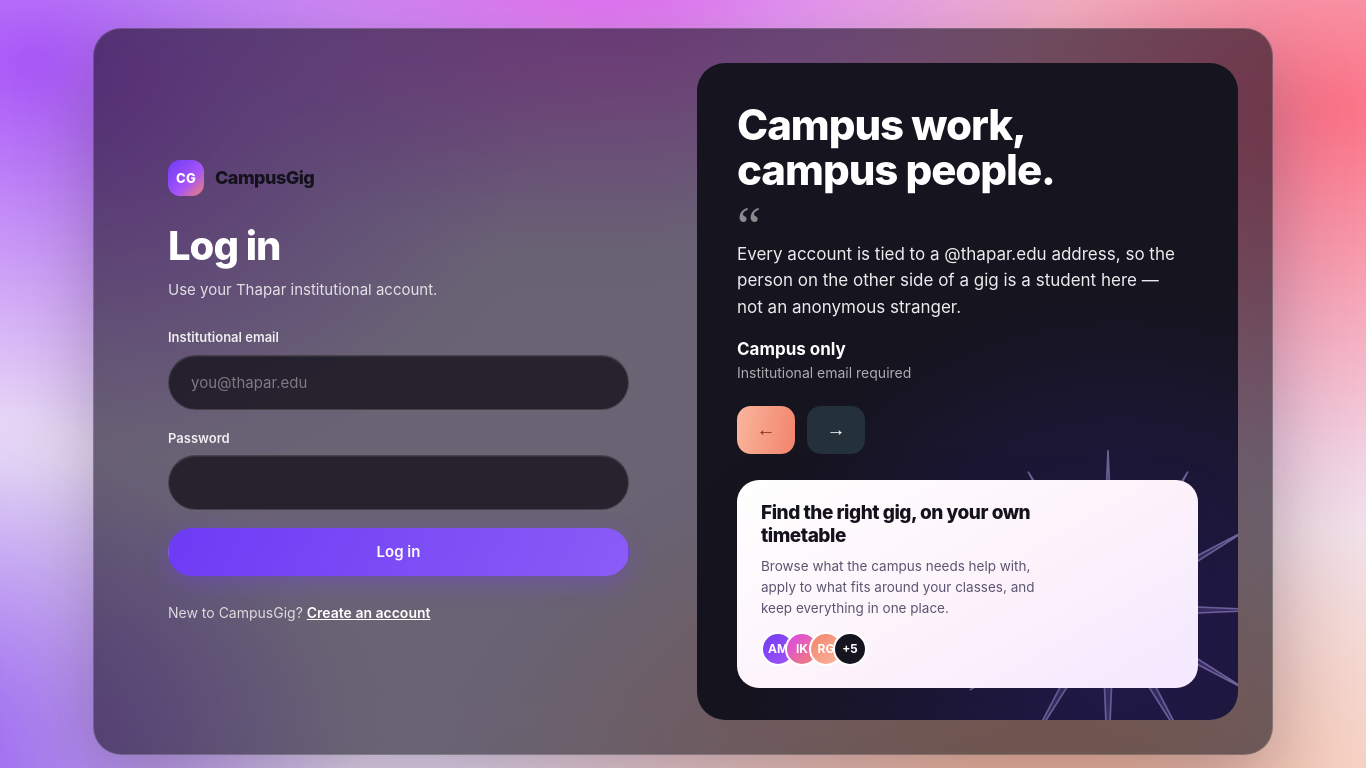
it: login form › surfaces the backend error for bad credentials
Step 1. Type "student@thapar.edu" into the field labelled "Institutional email" → [398, 382], box [168,355,629,410]
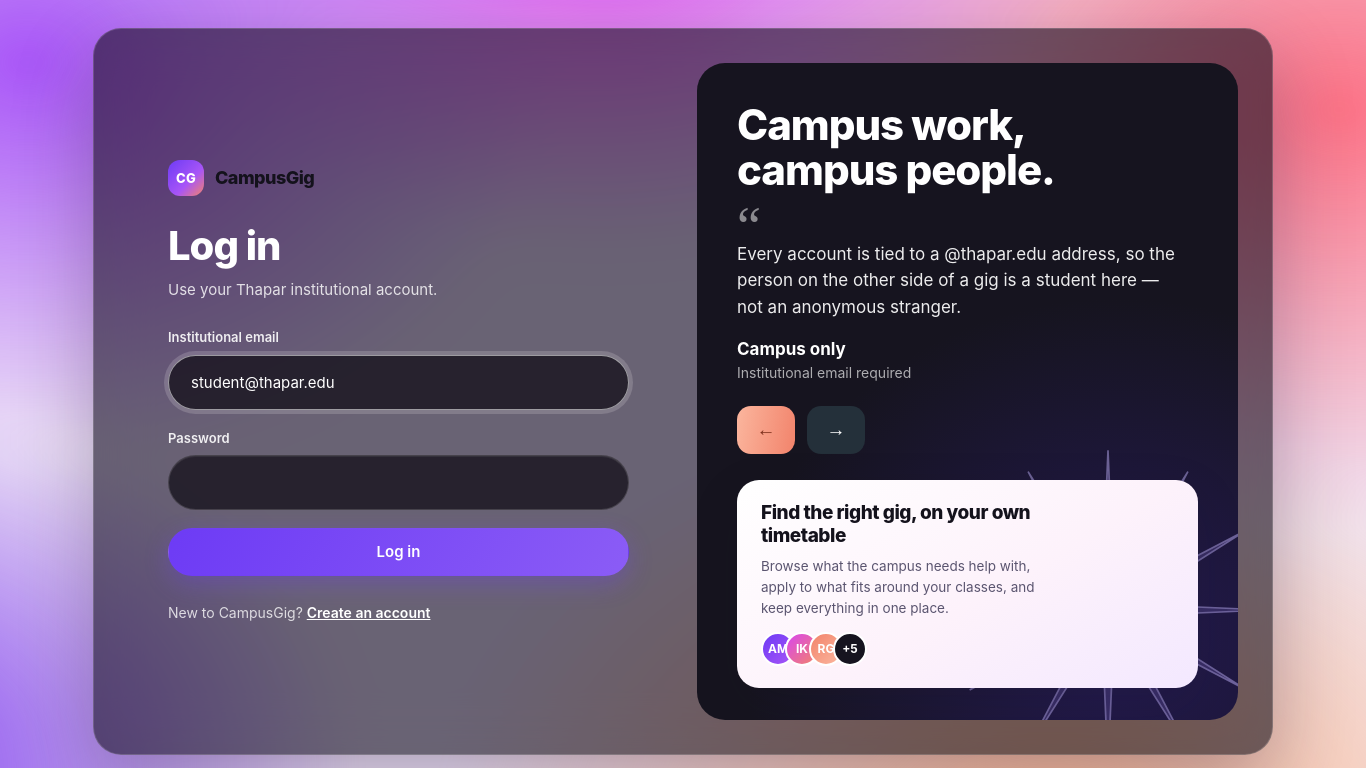
Step 2. Type "CampusGig123" into the password field labelled "Password" → [398, 483], box [168,455,629,510]
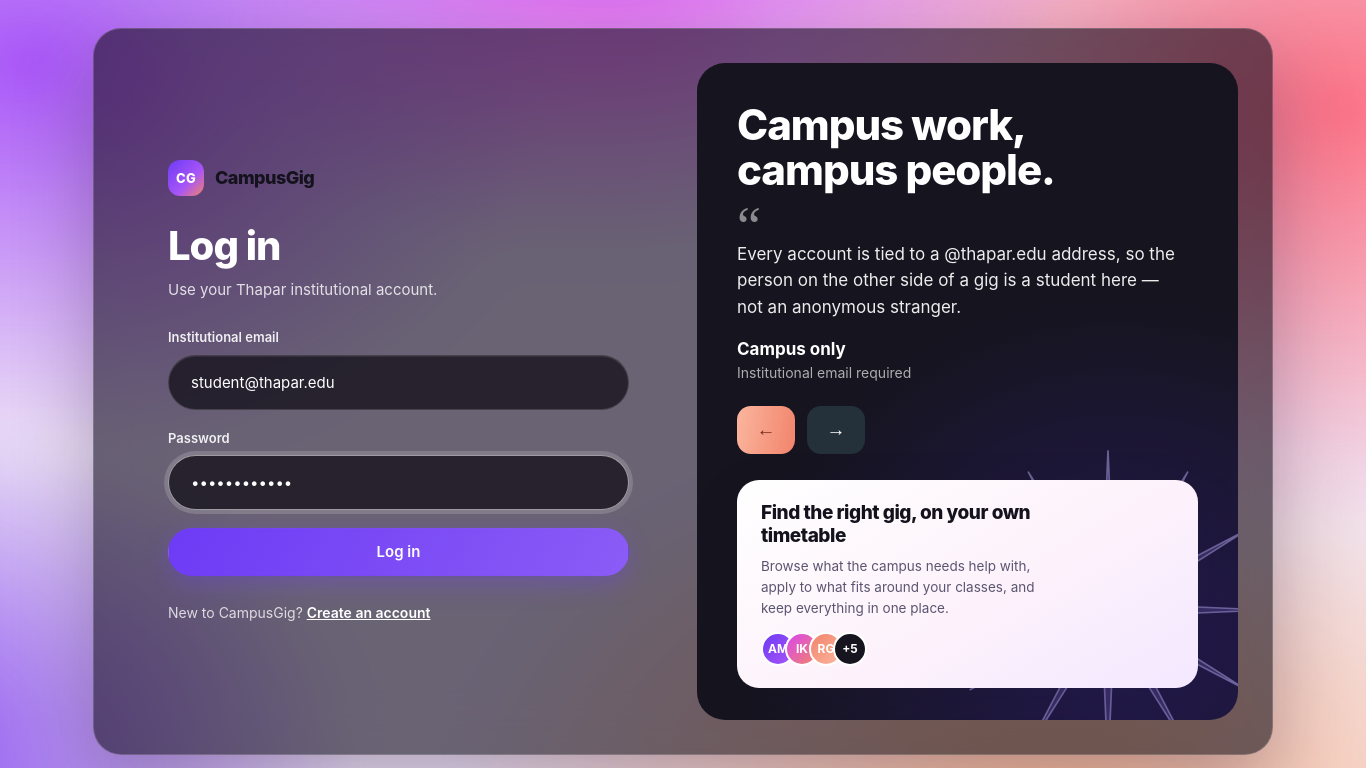
Step 3. Click the button "Log in" → [398, 552], box [168,528,629,576]
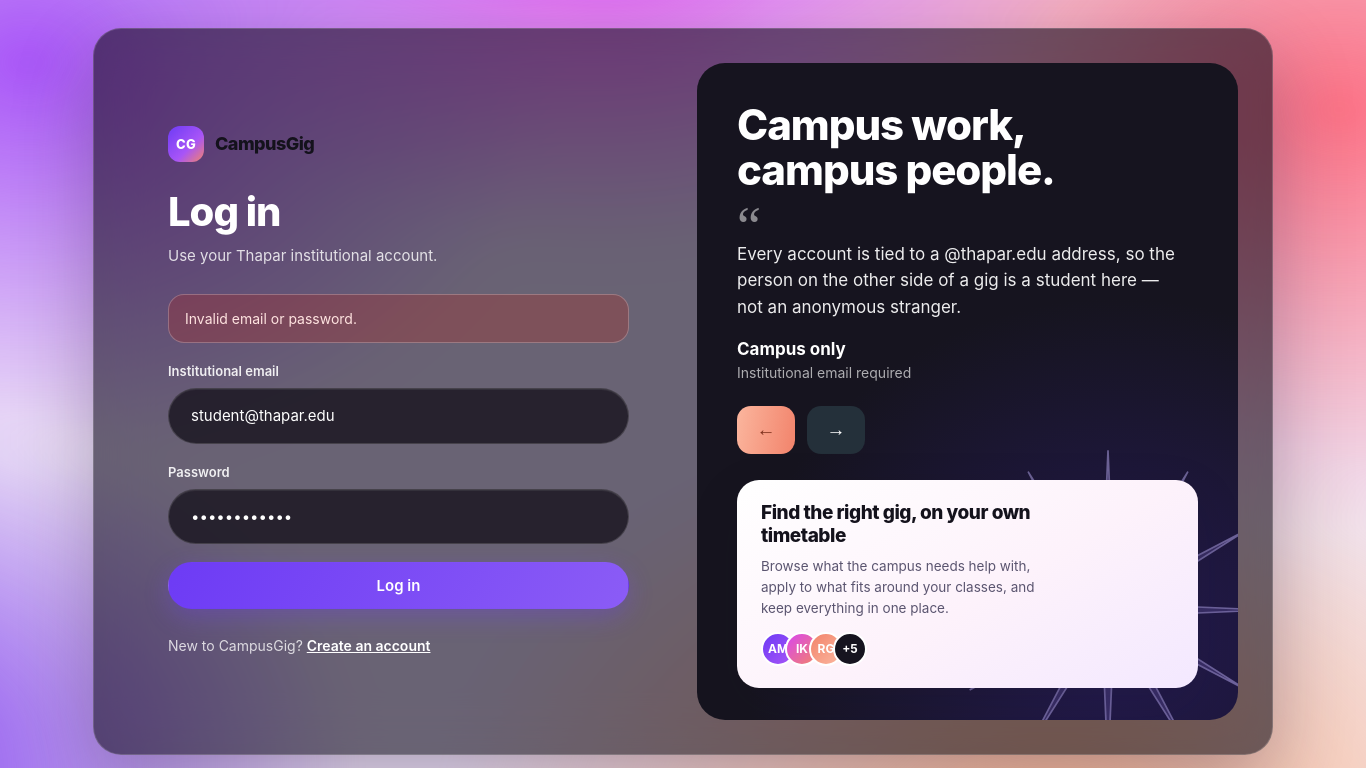
Check: the text "Invalid email or password." is shown, box [168,294,629,343]
